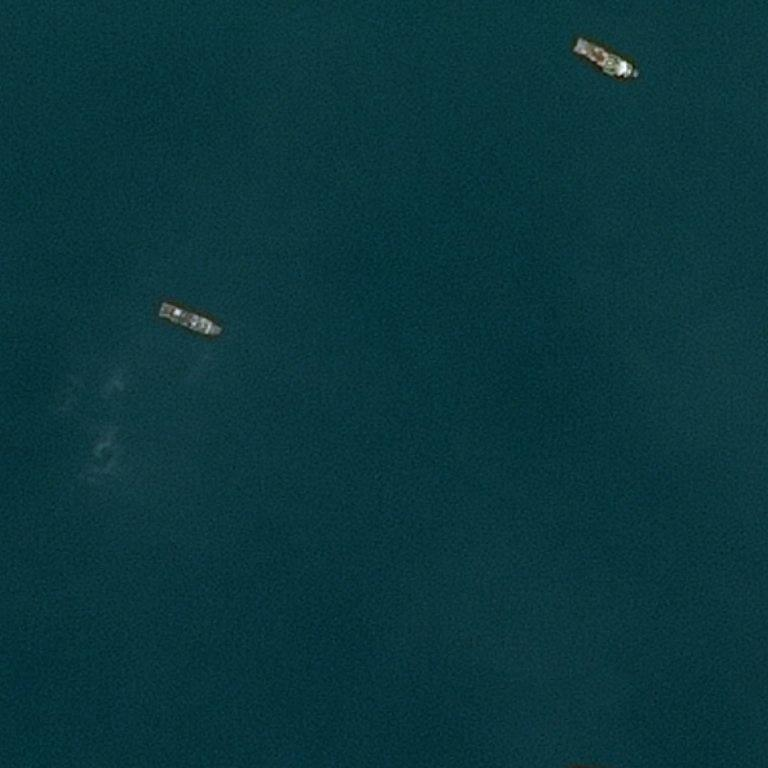ship: (570, 33, 639, 86), (156, 319, 225, 323)
